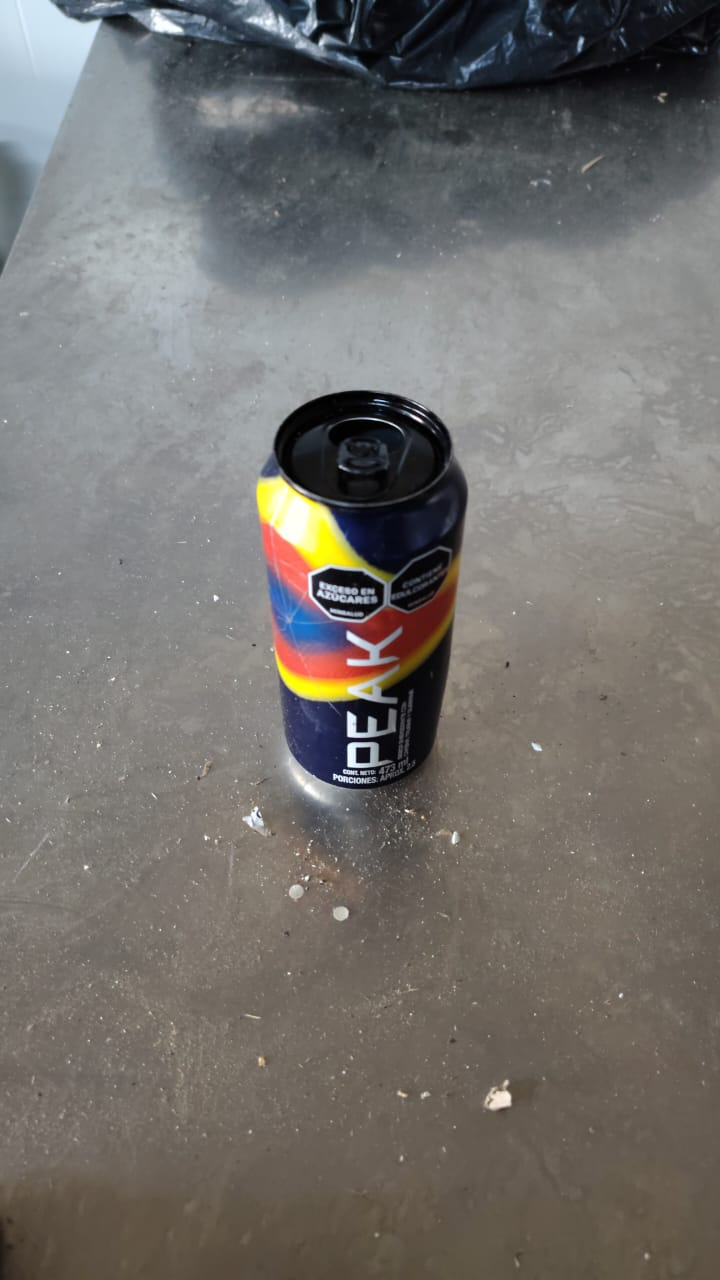Metal: (257, 384, 470, 791)
